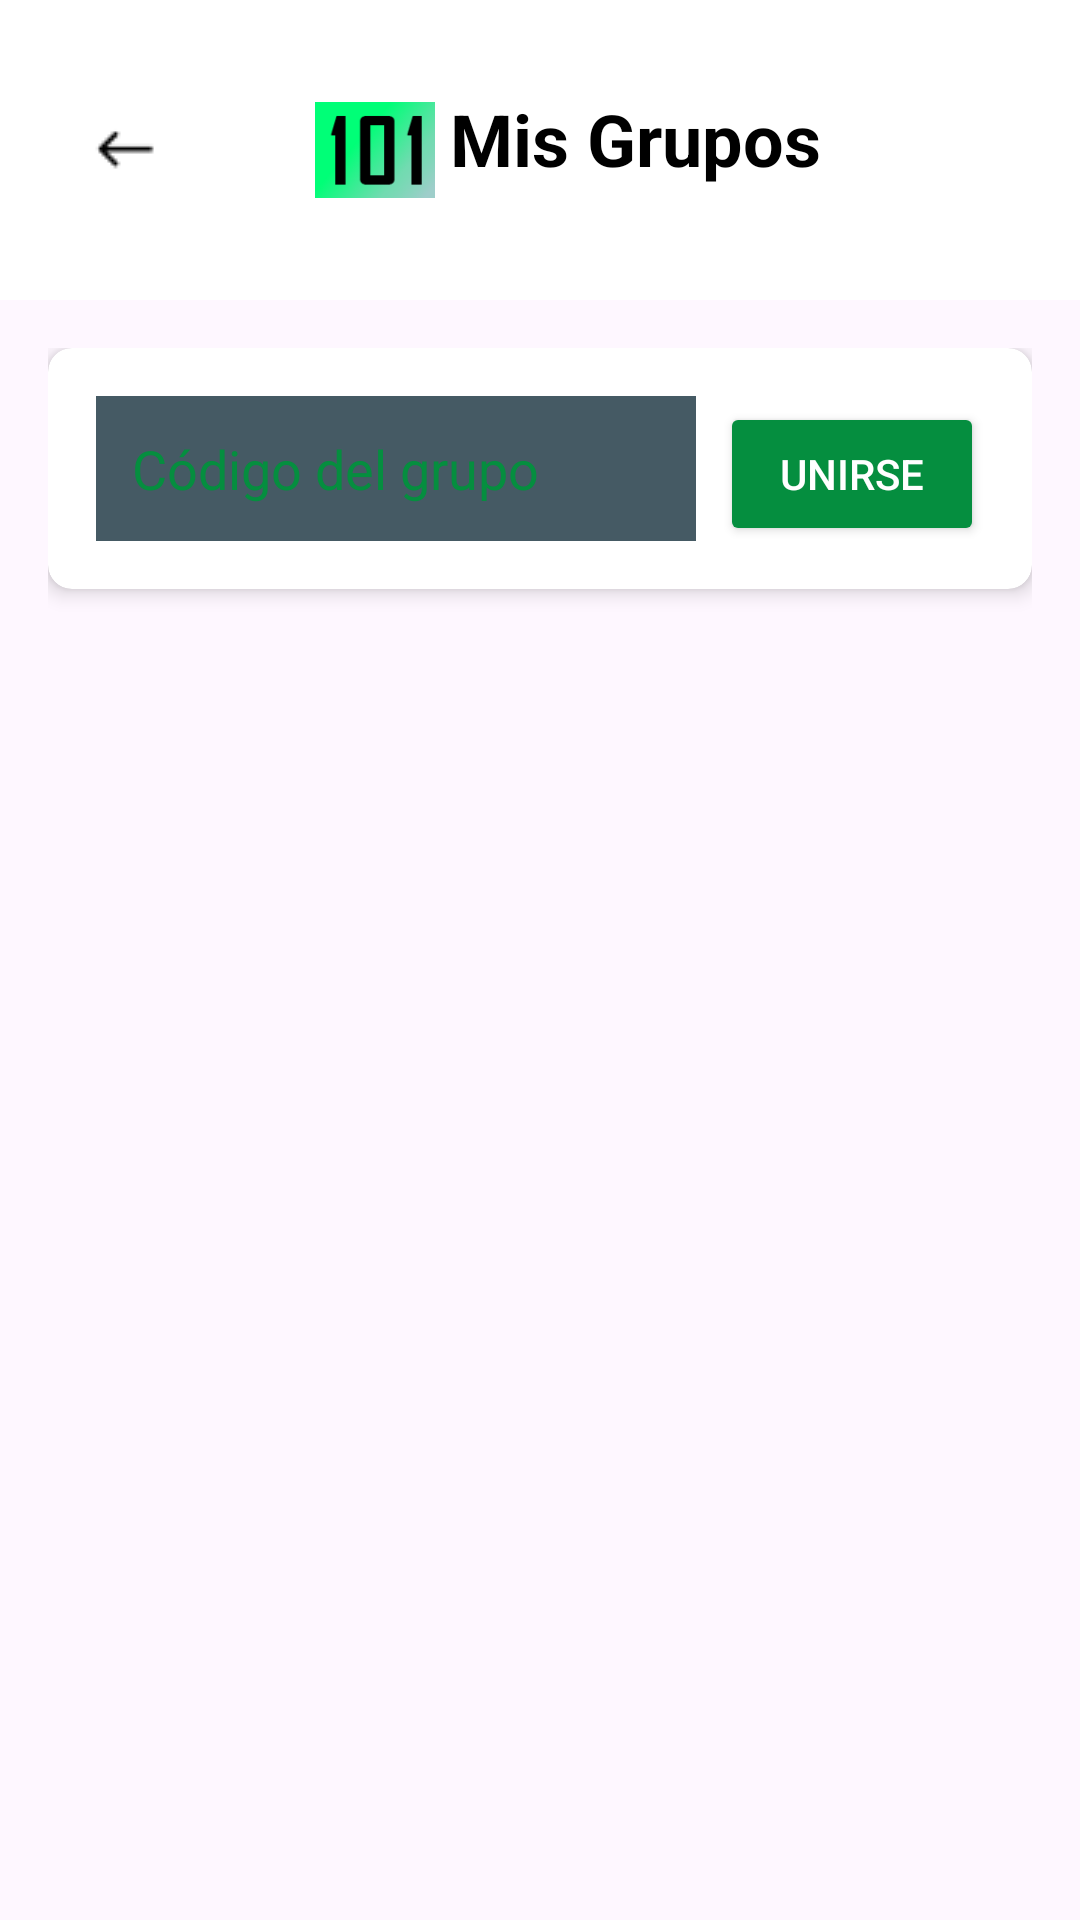

Icon bounding boxes for this 1080w x 1920h phone screenshot, format (x1, y1, x2, y2):
flecha: (98, 131, 154, 169)
